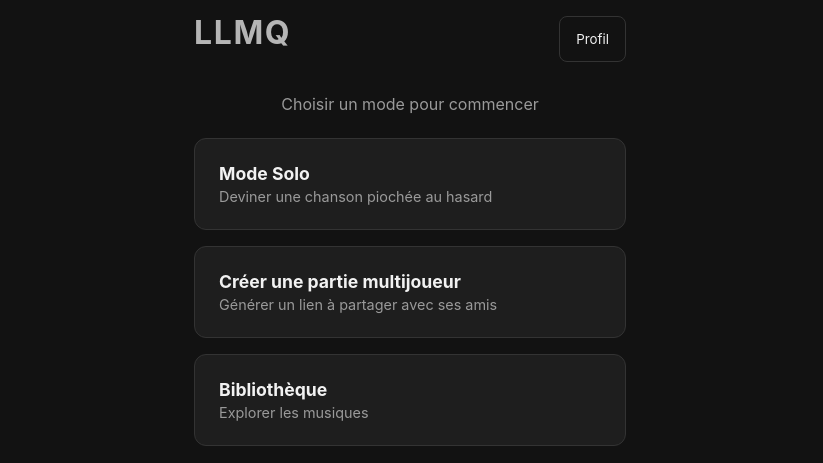
Test case: App — Bibliothèque › the Bibliothèque card opens the song library
This screenshot has width=823, height=463.
Click the text "Bibliothèque": coordinates (273, 389) 219,379 -> 327,400
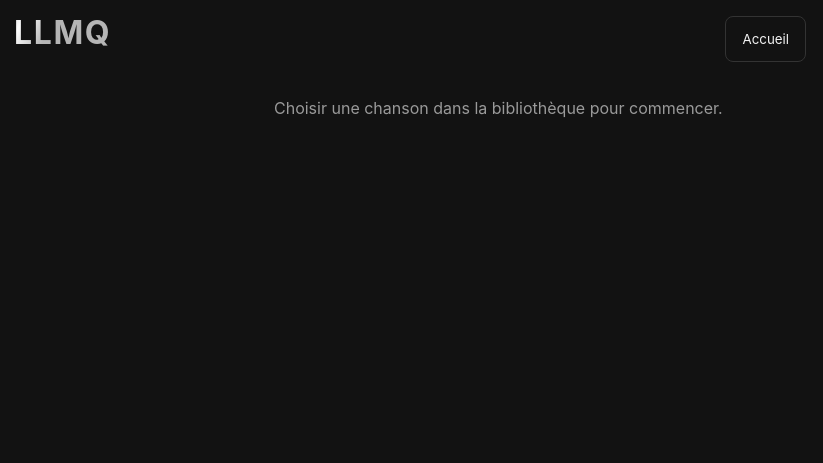
Now the text "Choisir une chanson dans la bibliothèque pour commencer." is shown, box 274,98 -> 723,118
